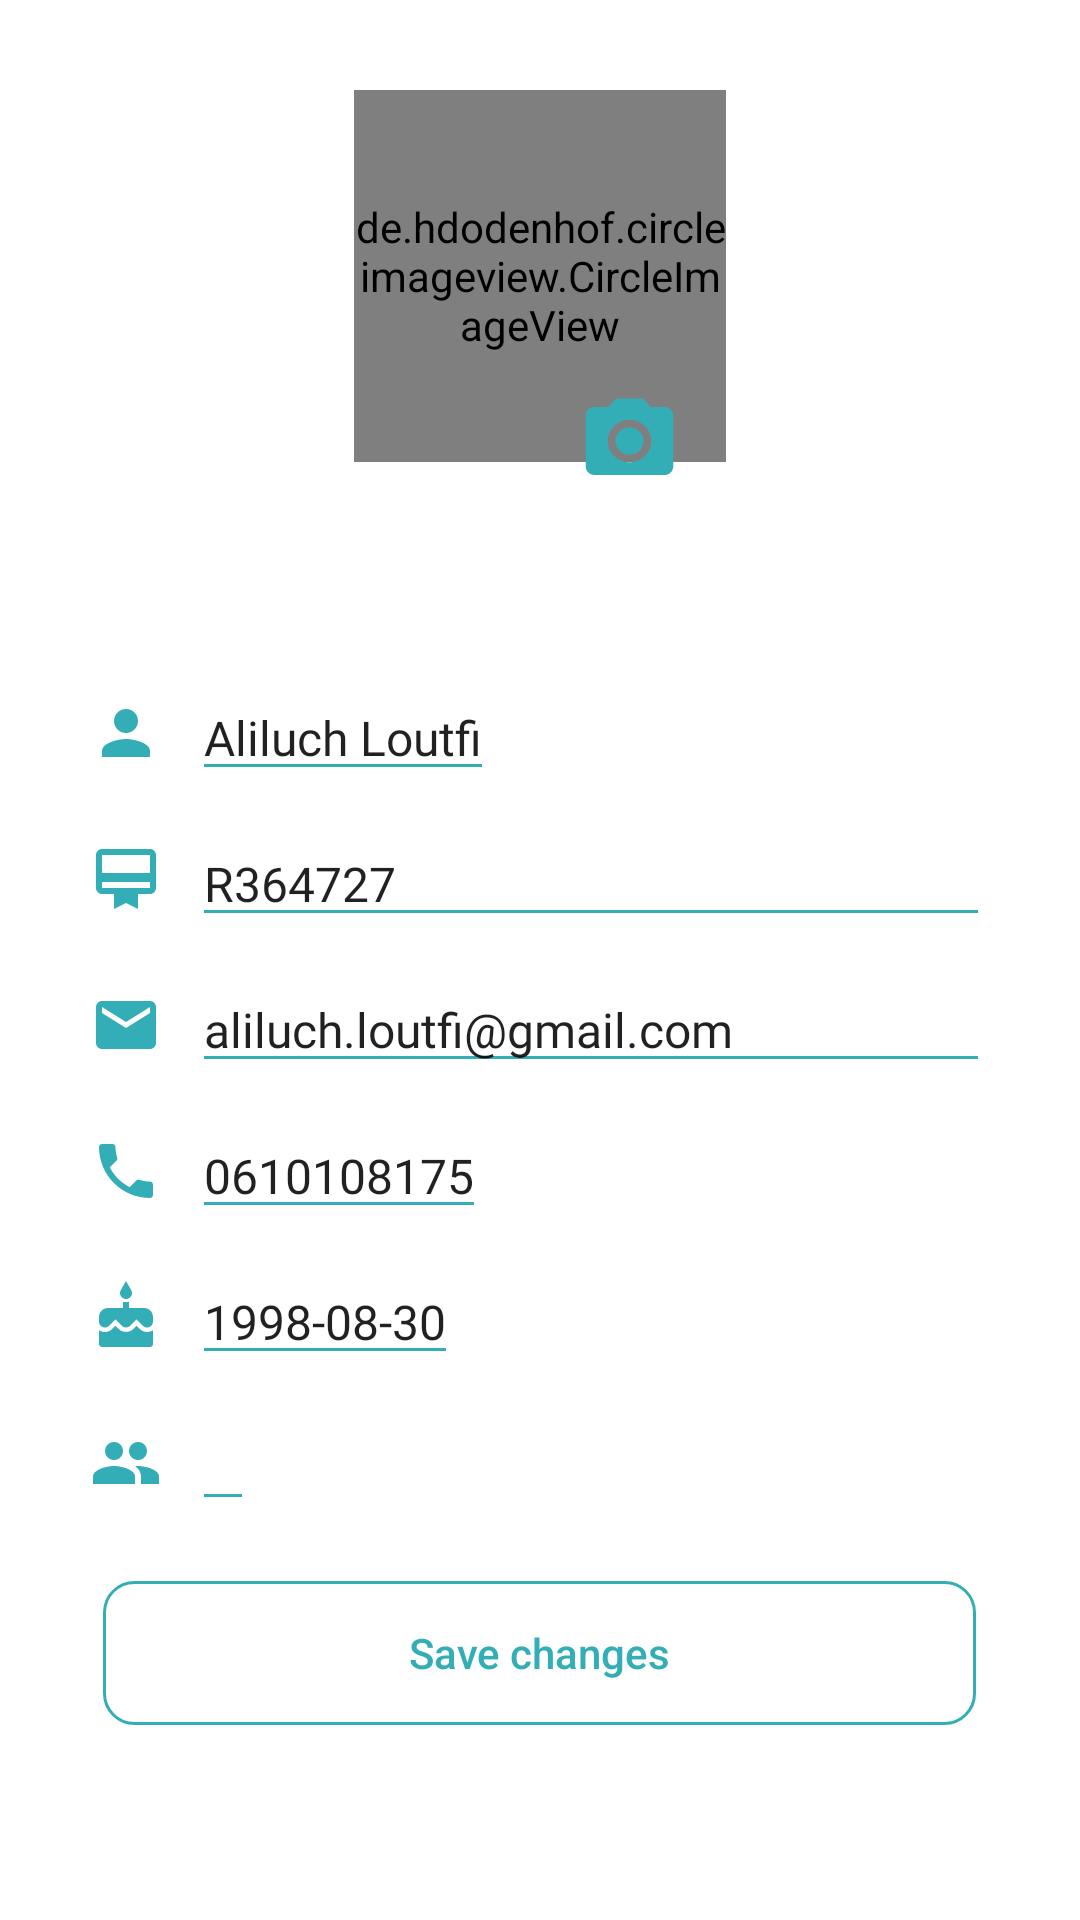

Screen size 1080*1920. Icon name, then its center in pixels as (x,y):
cake: (126,1314)
card membership: (126,879)
email: (126,1025)
local phone: (126,1171)
people: (126,1463)
person: (126,733)
photo camera: (629,441)
